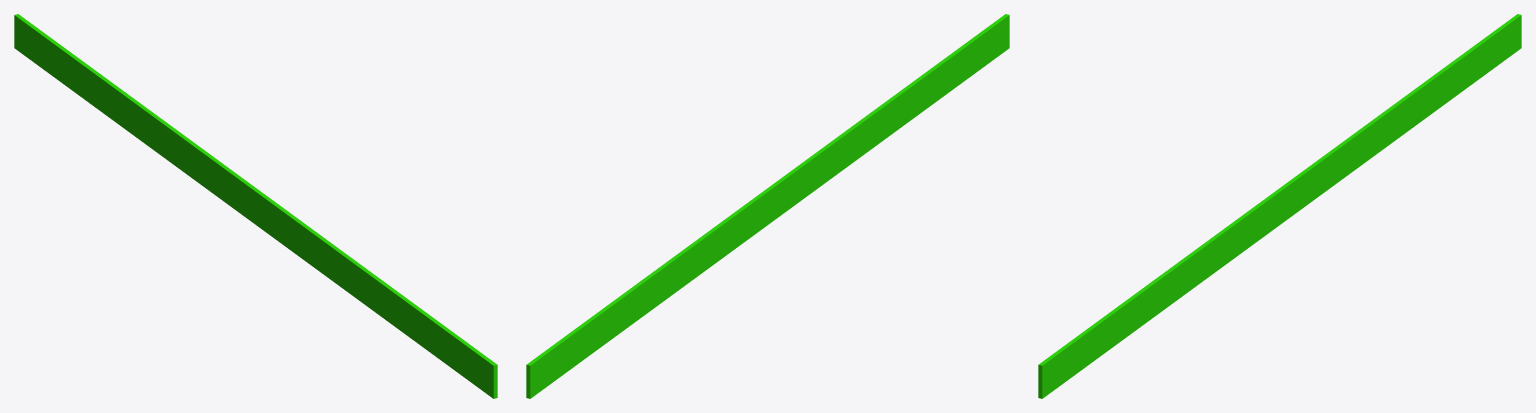
The model's file is Warehouse_03_Wall_Int_B_03.fbx.
3 renders of one model, left to right at view 1: azimuth 30°, elevation 25°; view 2: azimuth 150°, elevation 25°; view 3: azimuth 330°, elevation 25°, orthographic.
Parts seen in each view (by area): view 1: Warehouse_03_Wall_Int_B_03; view 2: Warehouse_03_Wall_Int_B_03; view 3: Warehouse_03_Wall_Int_B_03.
Boxes of the visible parts, bbox=[...] form: Warehouse_03_Wall_Int_B_03: bbox=[14, 14, 497, 398]; Warehouse_03_Wall_Int_B_03: bbox=[526, 14, 1009, 398]; Warehouse_03_Wall_Int_B_03: bbox=[1038, 14, 1521, 398].
Size of the model in its own units: 7.88 by 61.71 by 1615.
